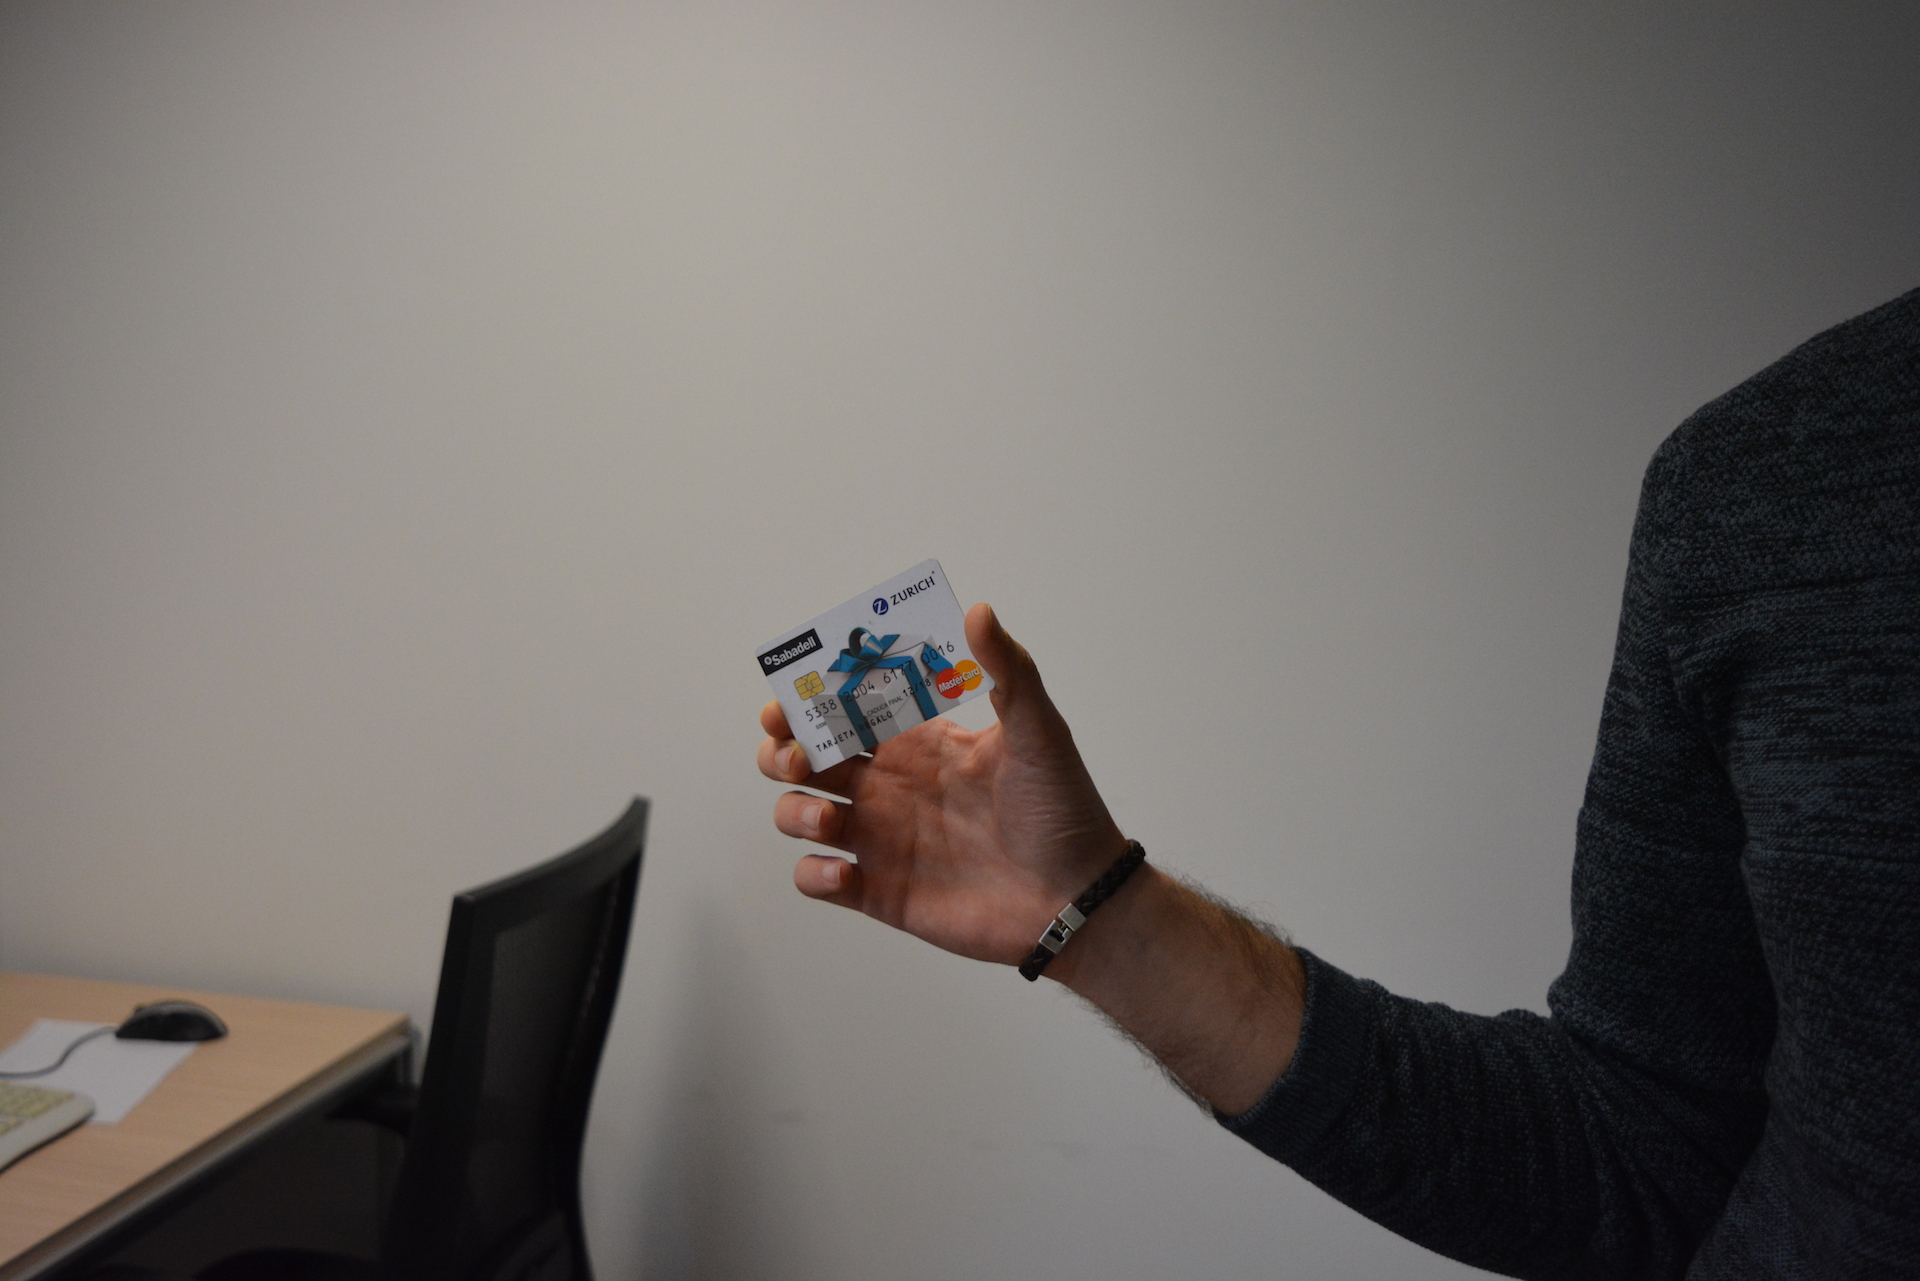tarjeta: (753, 558, 998, 775)
